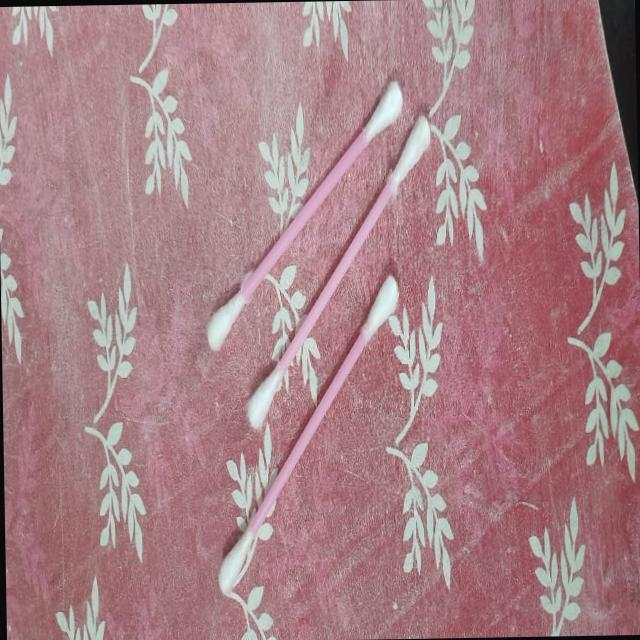Earbud - Non Recyclable: (0, 0, 640, 640), (184, 46, 446, 608)
